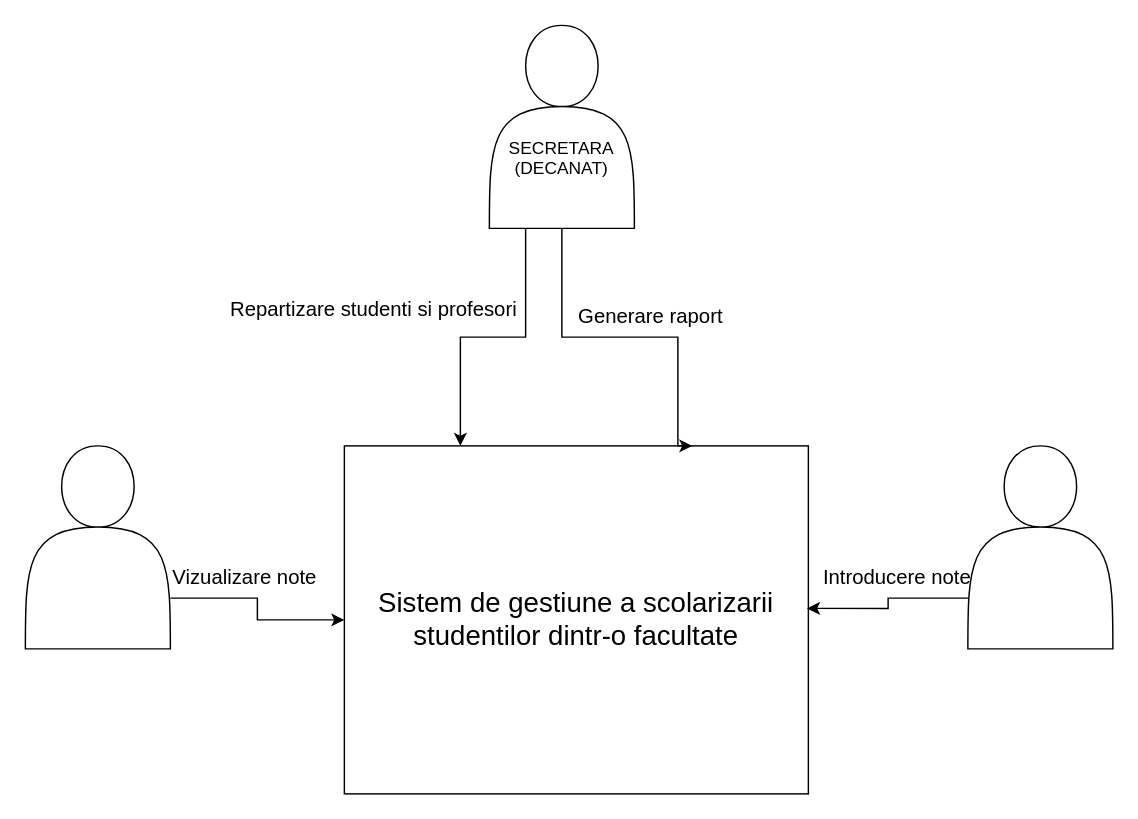
Image size: 1138x819. Some labels were removed from this diagram. The shapes that lost their labels are listed below. From the top down, each one's centre as x and y in pixels, then its label:
At point 97,546: "STUDENT".
At point 1039,546: "PROFESOR".
